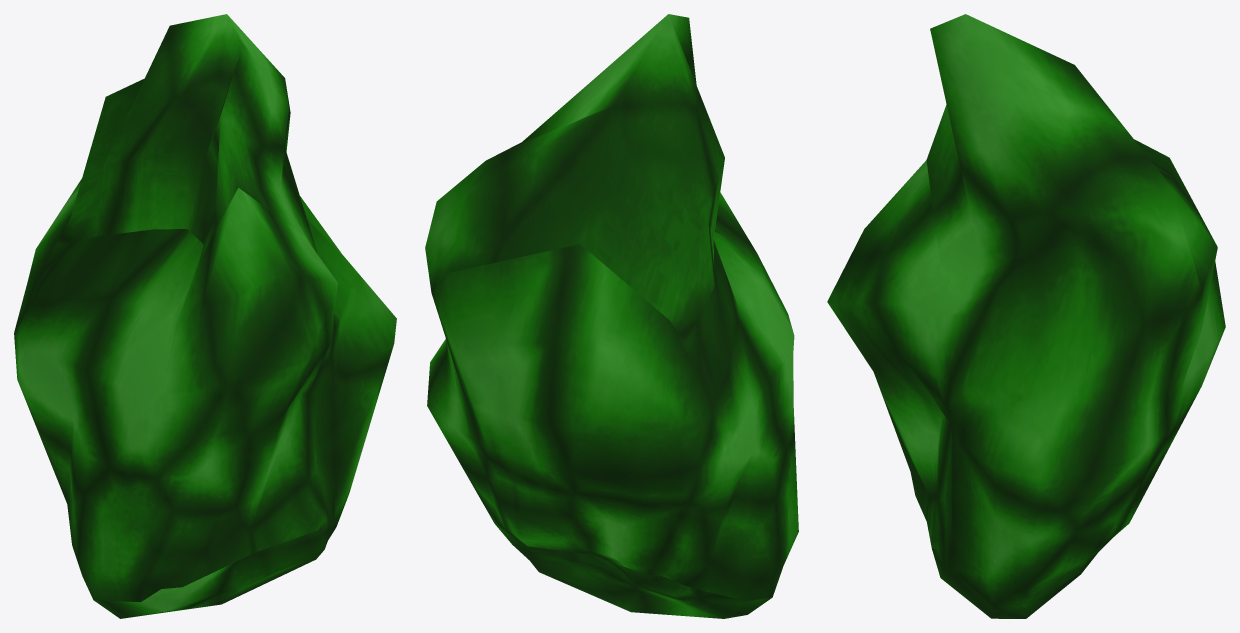
File: scrapyardCrystal.glb
3 renders of one model, left to right at view 1: azimuth 30°, elevation 25°; view 2: azimuth 150°, elevation 25°; view 3: azimuth 270°, elevation 25°, orthographic. The views are drawn at different scales.
Parts seen in each view (by area): view 1: Green; view 2: Green; view 3: Green.
Part boxes in pixels (x1,y1,x2,y2): Green: (14,14,396,618); Green: (425,14,798,618); Green: (827,14,1225,618).
Bounding box in the file's own units: 1.15 × 1.91 × 1.2.
Materials: 1 (1 with a texture image).
